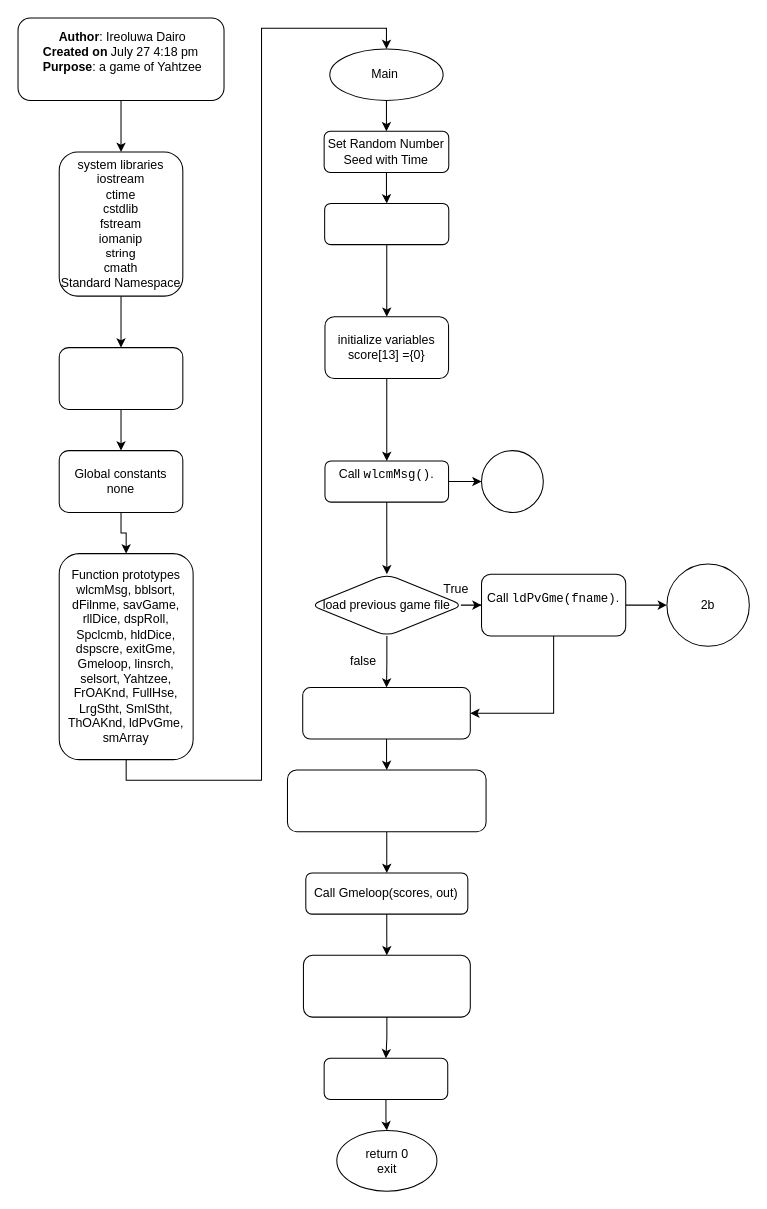
This 767x1209 diagram has some shape labels left out. The shapes that lost their labels are listed below. From the top down, each one's centre as x and y in pixels, then its label:
At point (386, 223): "Declare uname, fname out file stream".
At point (120, 378): "user libraries none".
At point (511, 481): "2a".
At point (386, 712): "call dFilnme(uname, fname).".
At point (386, 800): "Call savGame(out, uname, fname)".
At point (386, 985): "Call dspscre(scores, out)".
At point (385, 1078): "close file".
